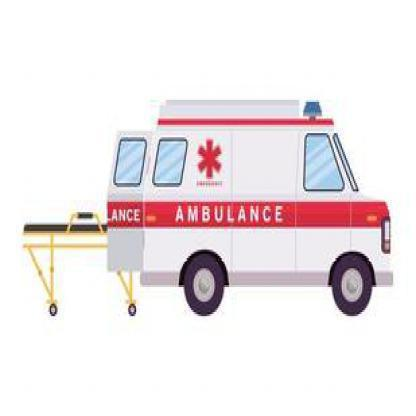Ambulance - v1 Ambulance last generate: (82, 65, 404, 329)
